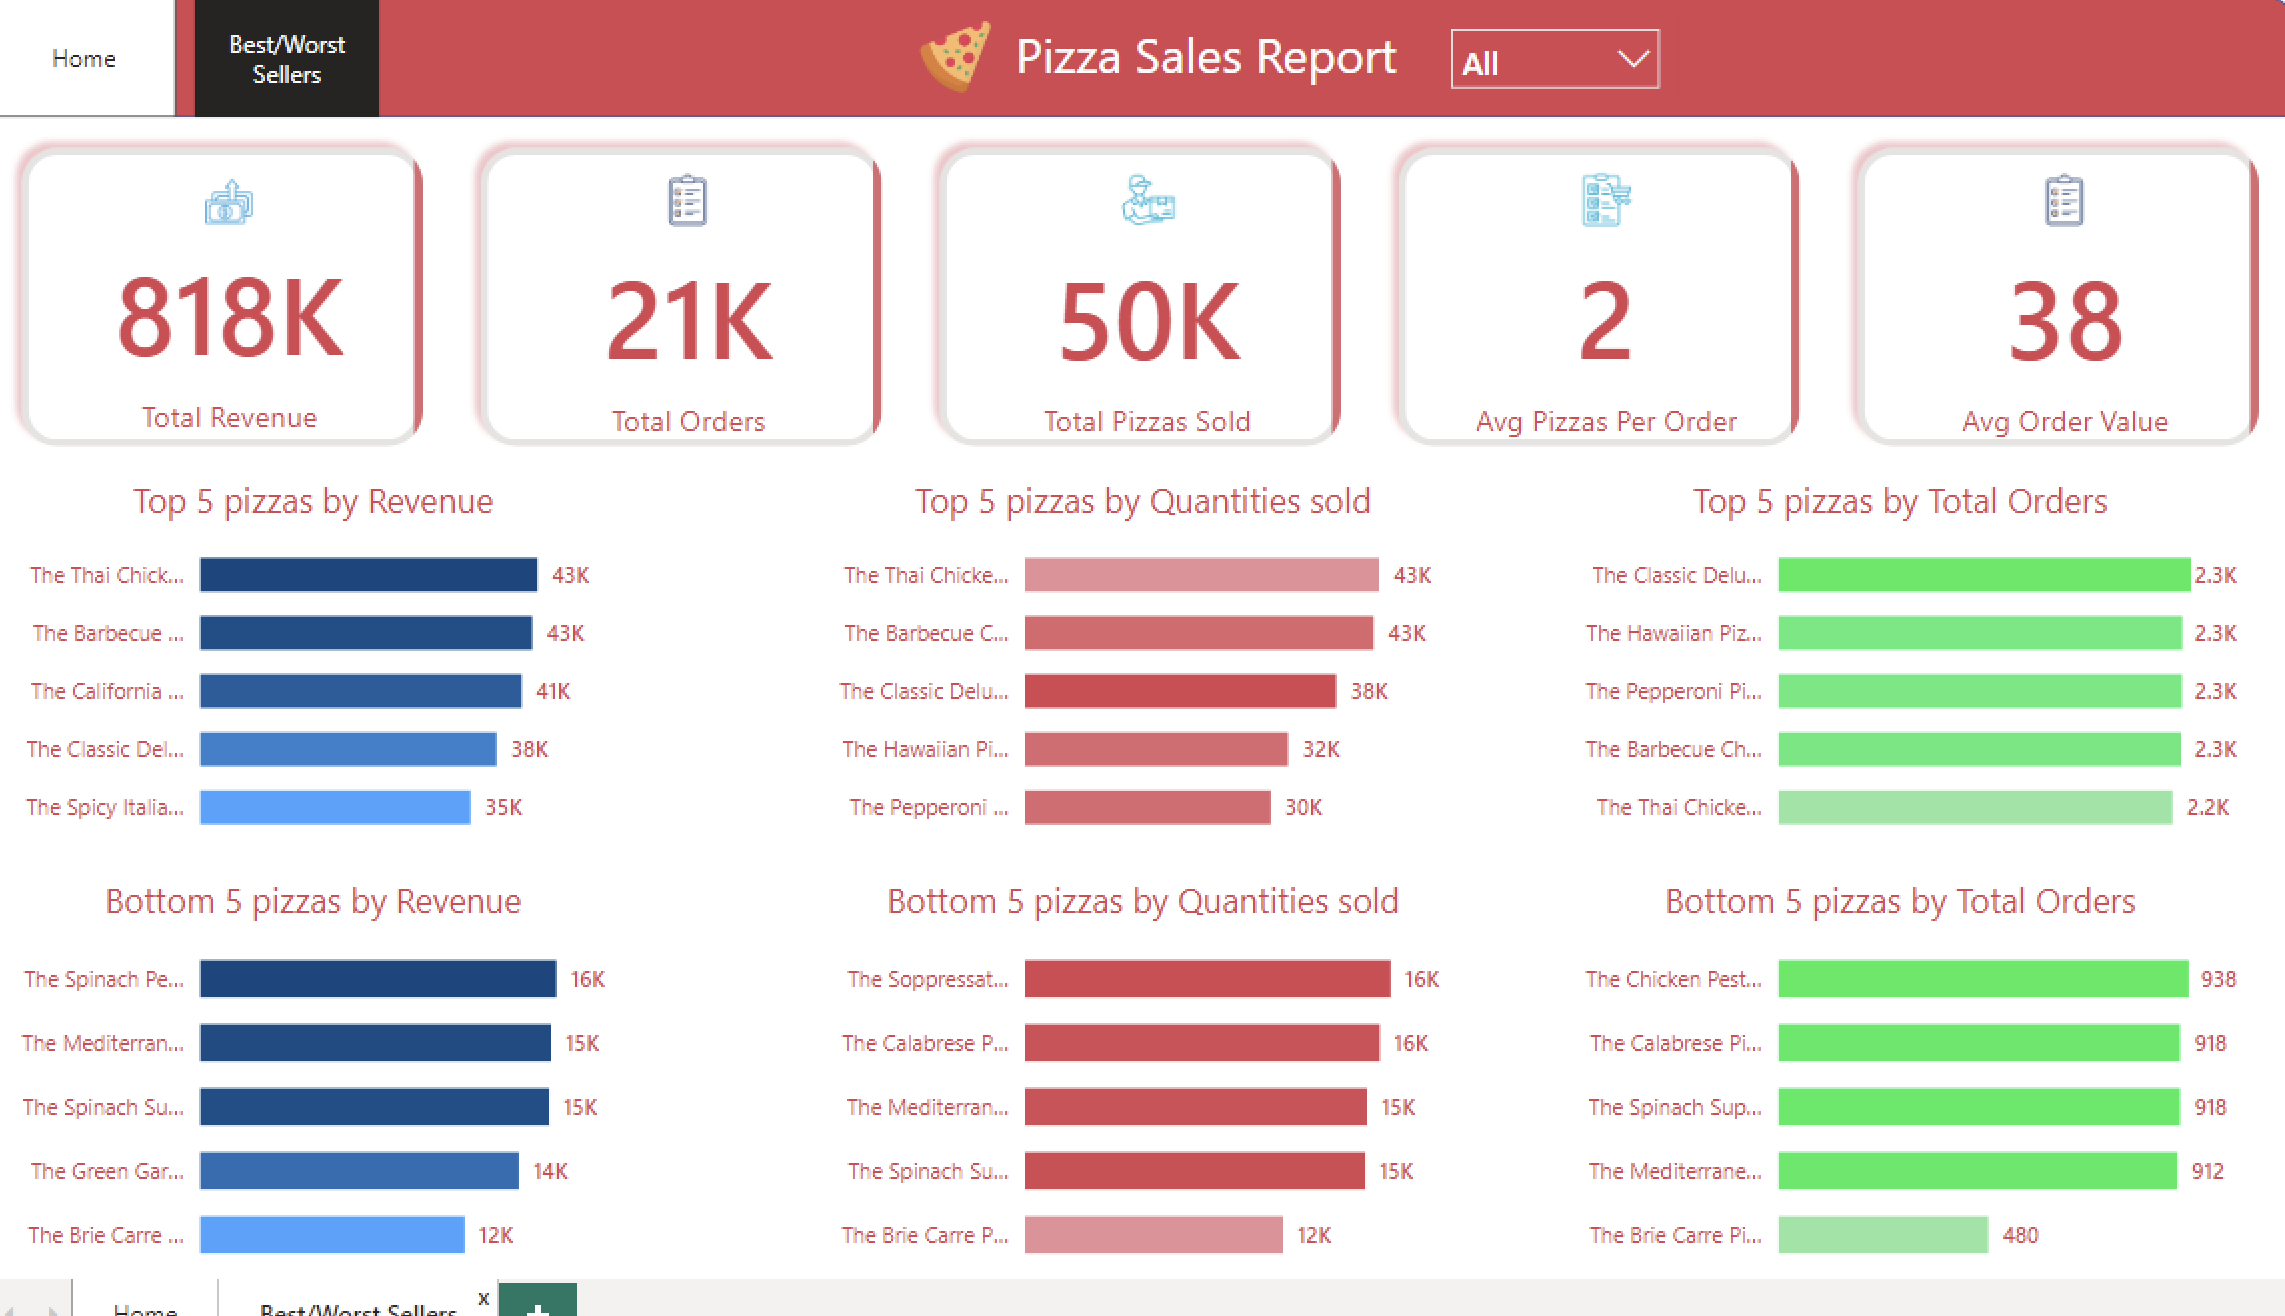

The page's visual inventory and layout, read from the dashboard file:
{"tool":"powerbi","page":{"name":"Best/Worst Sellers","canvas":[1280,720],"ordinal":1},"visuals":[{"type":"cardVisual","fields":{"Data":["pizza_sales.Total Revenue","pizza_sales.Total Orders","pizza_sales.Total Pizzas Sold","pizza_sales.Avg Pizzas Per Order","pizza_sales.Avg Order Value"]},"box":[0,67.6,1279.7,200],"z":0},{"type":"shape","box":[0,0,1280,68.1],"z":1000},{"type":"textbox","box":[537.3,8.7,274.8,59.4],"z":2000},{"type":"image","box":[492.7,8.7,87.9,50.8],"z":3000},{"type":"slicer","title":"Category","fields":{"Values":["pizza_sales.pizza_category"]},"box":[800.9,8.7,136.2,52],"z":4000},{"type":"clusteredBarChart","title":"Top 5 pizzas by Revenue","fields":{"Category":["pizza_sales.pizza_name"],"Y":["pizza_sales.Total Revenue"]},"box":[0,267.6,358.1,212.2],"z":5000},{"type":"clusteredBarChart","title":"Bottom 5 pizzas by Revenue","fields":{"Category":["pizza_sales.pizza_name"],"Y":["pizza_sales.Total Revenue"]},"box":[0,490.5,358.1,229.7],"z":6000},{"type":"clusteredBarChart","title":"Top 5 pizzas by Quantities sold","fields":{"Category":["pizza_sales.pizza_name"],"Y":["pizza_sales.Total Revenue"]},"box":[454.1,267.6,371.6,212.2],"z":7000},{"type":"clusteredBarChart","title":"Bottom 5 pizzas by Quantities sold","fields":{"Category":["pizza_sales.pizza_name"],"Y":["pizza_sales.Total Revenue"]},"box":[454.1,490.5,371.6,229.7],"z":8000},{"type":"clusteredBarChart","title":"Top 5 pizzas by Total Orders","fields":{"Category":["pizza_sales.pizza_name"],"Y":["pizza_sales.Total Orders"]},"box":[868.9,267.6,383.8,212.2],"z":9000},{"type":"clusteredBarChart","title":"Bottom 5 pizzas by Total Orders","fields":{"Category":["pizza_sales.pizza_name"],"Y":["pizza_sales.Total Orders"]},"box":[868.9,490.5,383.8,229.7],"z":10000},{"type":"pageNavigator","box":[0,1.4,216.2,67.6],"z":11000}]}

Visuals, with their boxes on the page's 1280x720 design canvas (x1, y1, x2, y2). These are canvas units, not pixel positions in the 2285x1316 screenshot, which may show the page scaled, cropped or inside an application window:
cardVisual - pizza_sales.Total Revenue x pizza_sales.Total Orders: <bbox>0, 68, 1280, 268</bbox>
shape: <bbox>0, 0, 1280, 68</bbox>
textbox: <bbox>537, 9, 812, 68</bbox>
image: <bbox>493, 9, 581, 60</bbox>
"Category" slicer: <bbox>801, 9, 937, 61</bbox>
"Top 5 pizzas by Revenue" clusteredBarChart: <bbox>0, 268, 358, 480</bbox>
"Bottom 5 pizzas by Revenue" clusteredBarChart: <bbox>0, 490, 358, 720</bbox>
"Top 5 pizzas by Quantities sold" clusteredBarChart: <bbox>454, 268, 826, 480</bbox>
"Bottom 5 pizzas by Quantities sold" clusteredBarChart: <bbox>454, 490, 826, 720</bbox>
"Top 5 pizzas by Total Orders" clusteredBarChart: <bbox>869, 268, 1253, 480</bbox>
"Bottom 5 pizzas by Total Orders" clusteredBarChart: <bbox>869, 490, 1253, 720</bbox>
pageNavigator: <bbox>0, 1, 216, 69</bbox>
